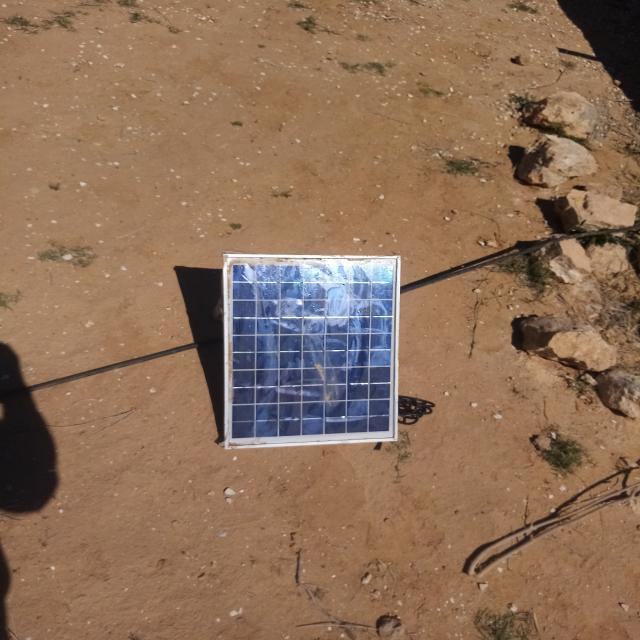faulty: (226, 255, 400, 448)
